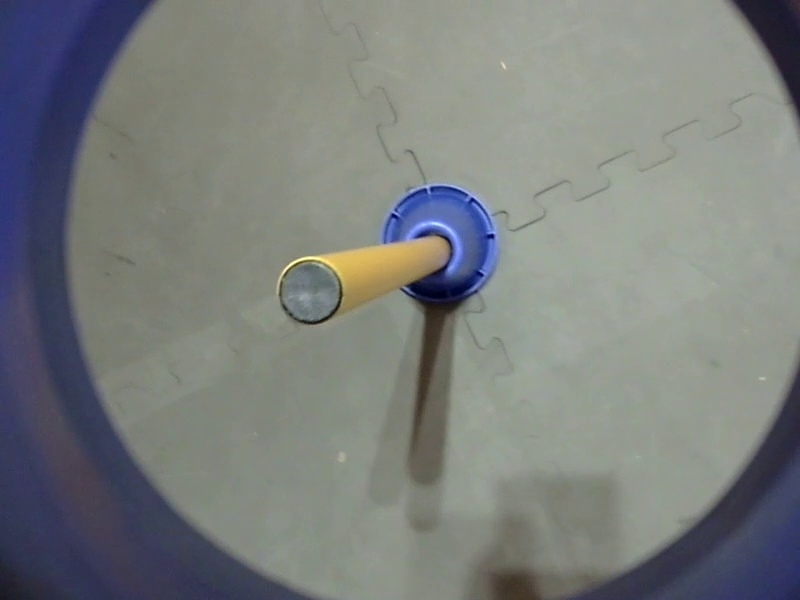tip: (274, 254, 353, 327)
